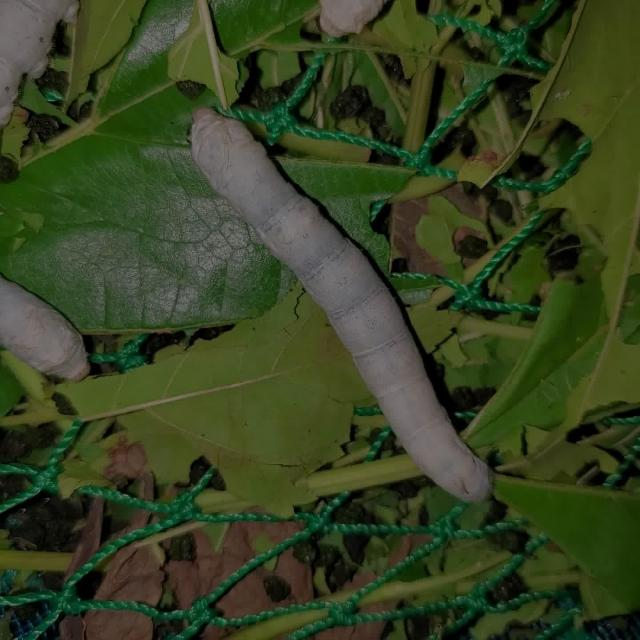Healthy: (160, 87, 526, 529)
